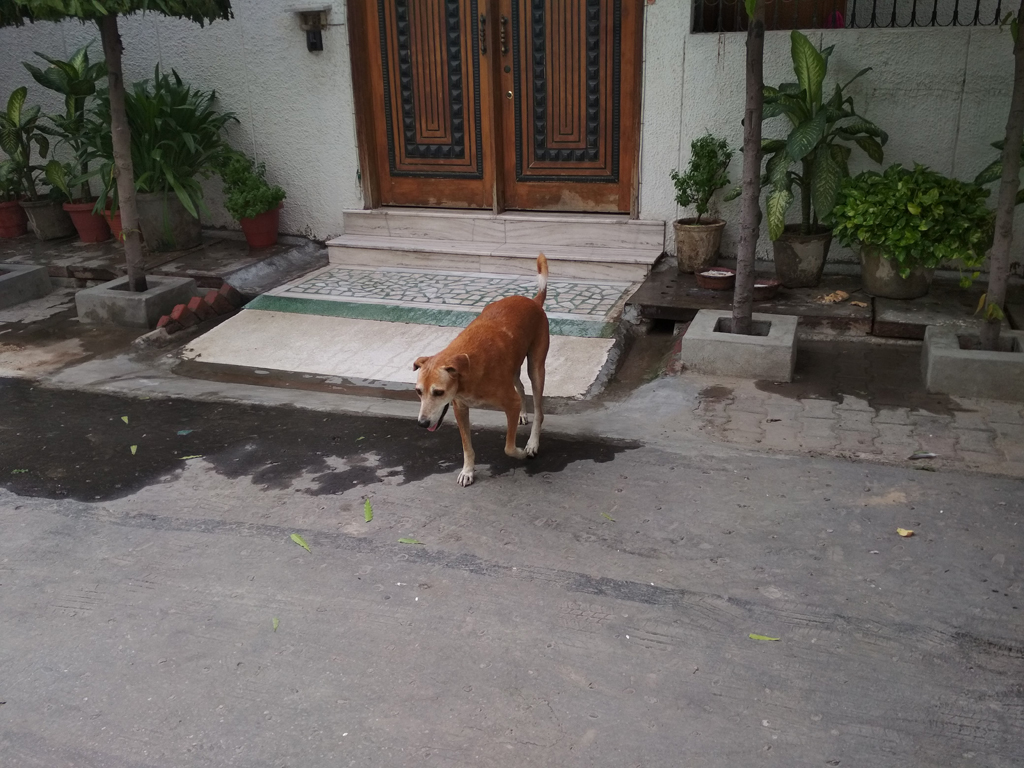dog: (411, 254, 554, 487)
